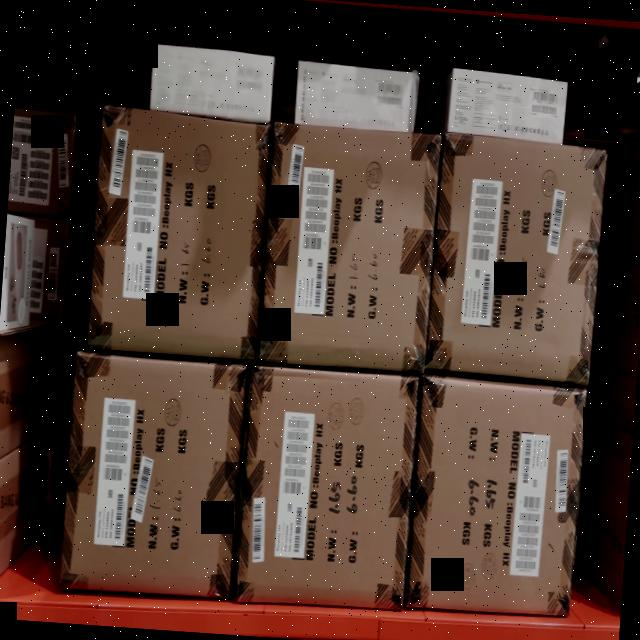box: (59, 348, 250, 600), (87, 103, 268, 360), (256, 120, 440, 368), (429, 132, 605, 388), (235, 364, 418, 608), (407, 378, 586, 620)
